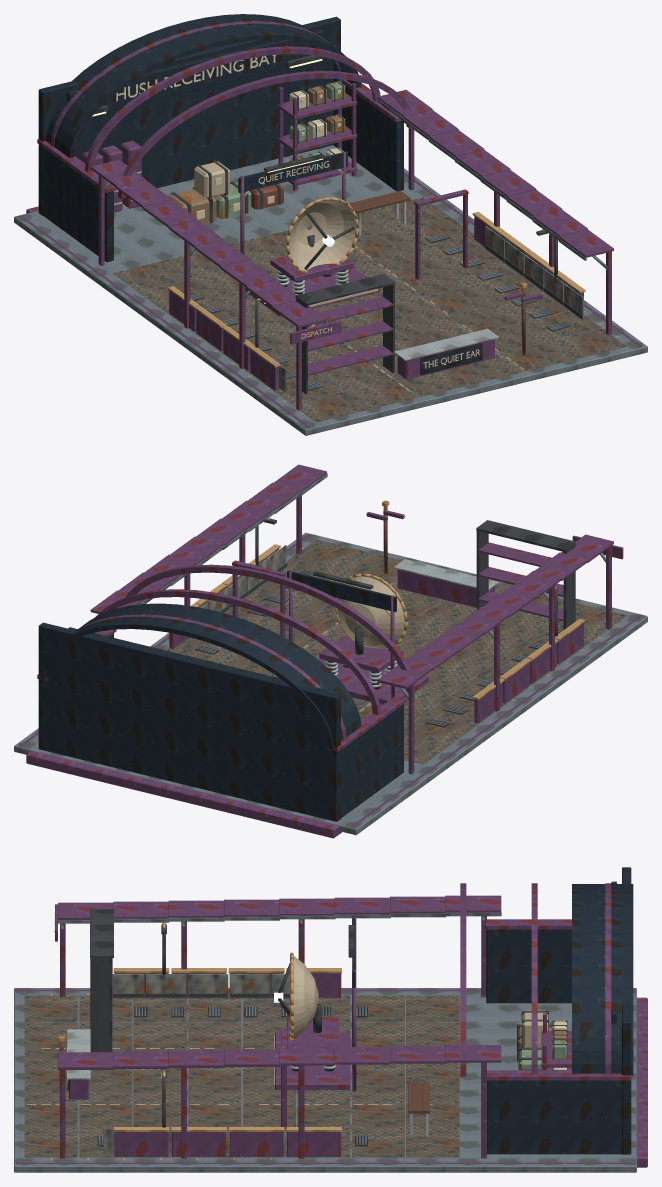
Rendered from listening-post-hush-depot.glb.
3 views of the same model, one above another, from view 1: azimuth 30°, elevation 25°; view 2: azimuth 150°, elevation 25°; view 3: azimuth 270°, elevation 25° (orthographic). The views are drawn at different scales.
Parts seen in each view (by area): view 1: listening-post-hush-depot; view 2: listening-post-hush-depot; view 3: listening-post-hush-depot.
Part boxes in pixels (x1=…): listening-post-hush-depot: x1=14, y1=14, x2=647, y2=435; listening-post-hush-depot: x1=14, y1=464, x2=647, y2=838; listening-post-hush-depot: x1=14, y1=867, x2=647, y2=1172.
Size of the model in its own units: 16.9 by 7.81 by 25.34.
Materials: 20 (17 with a texture image).
